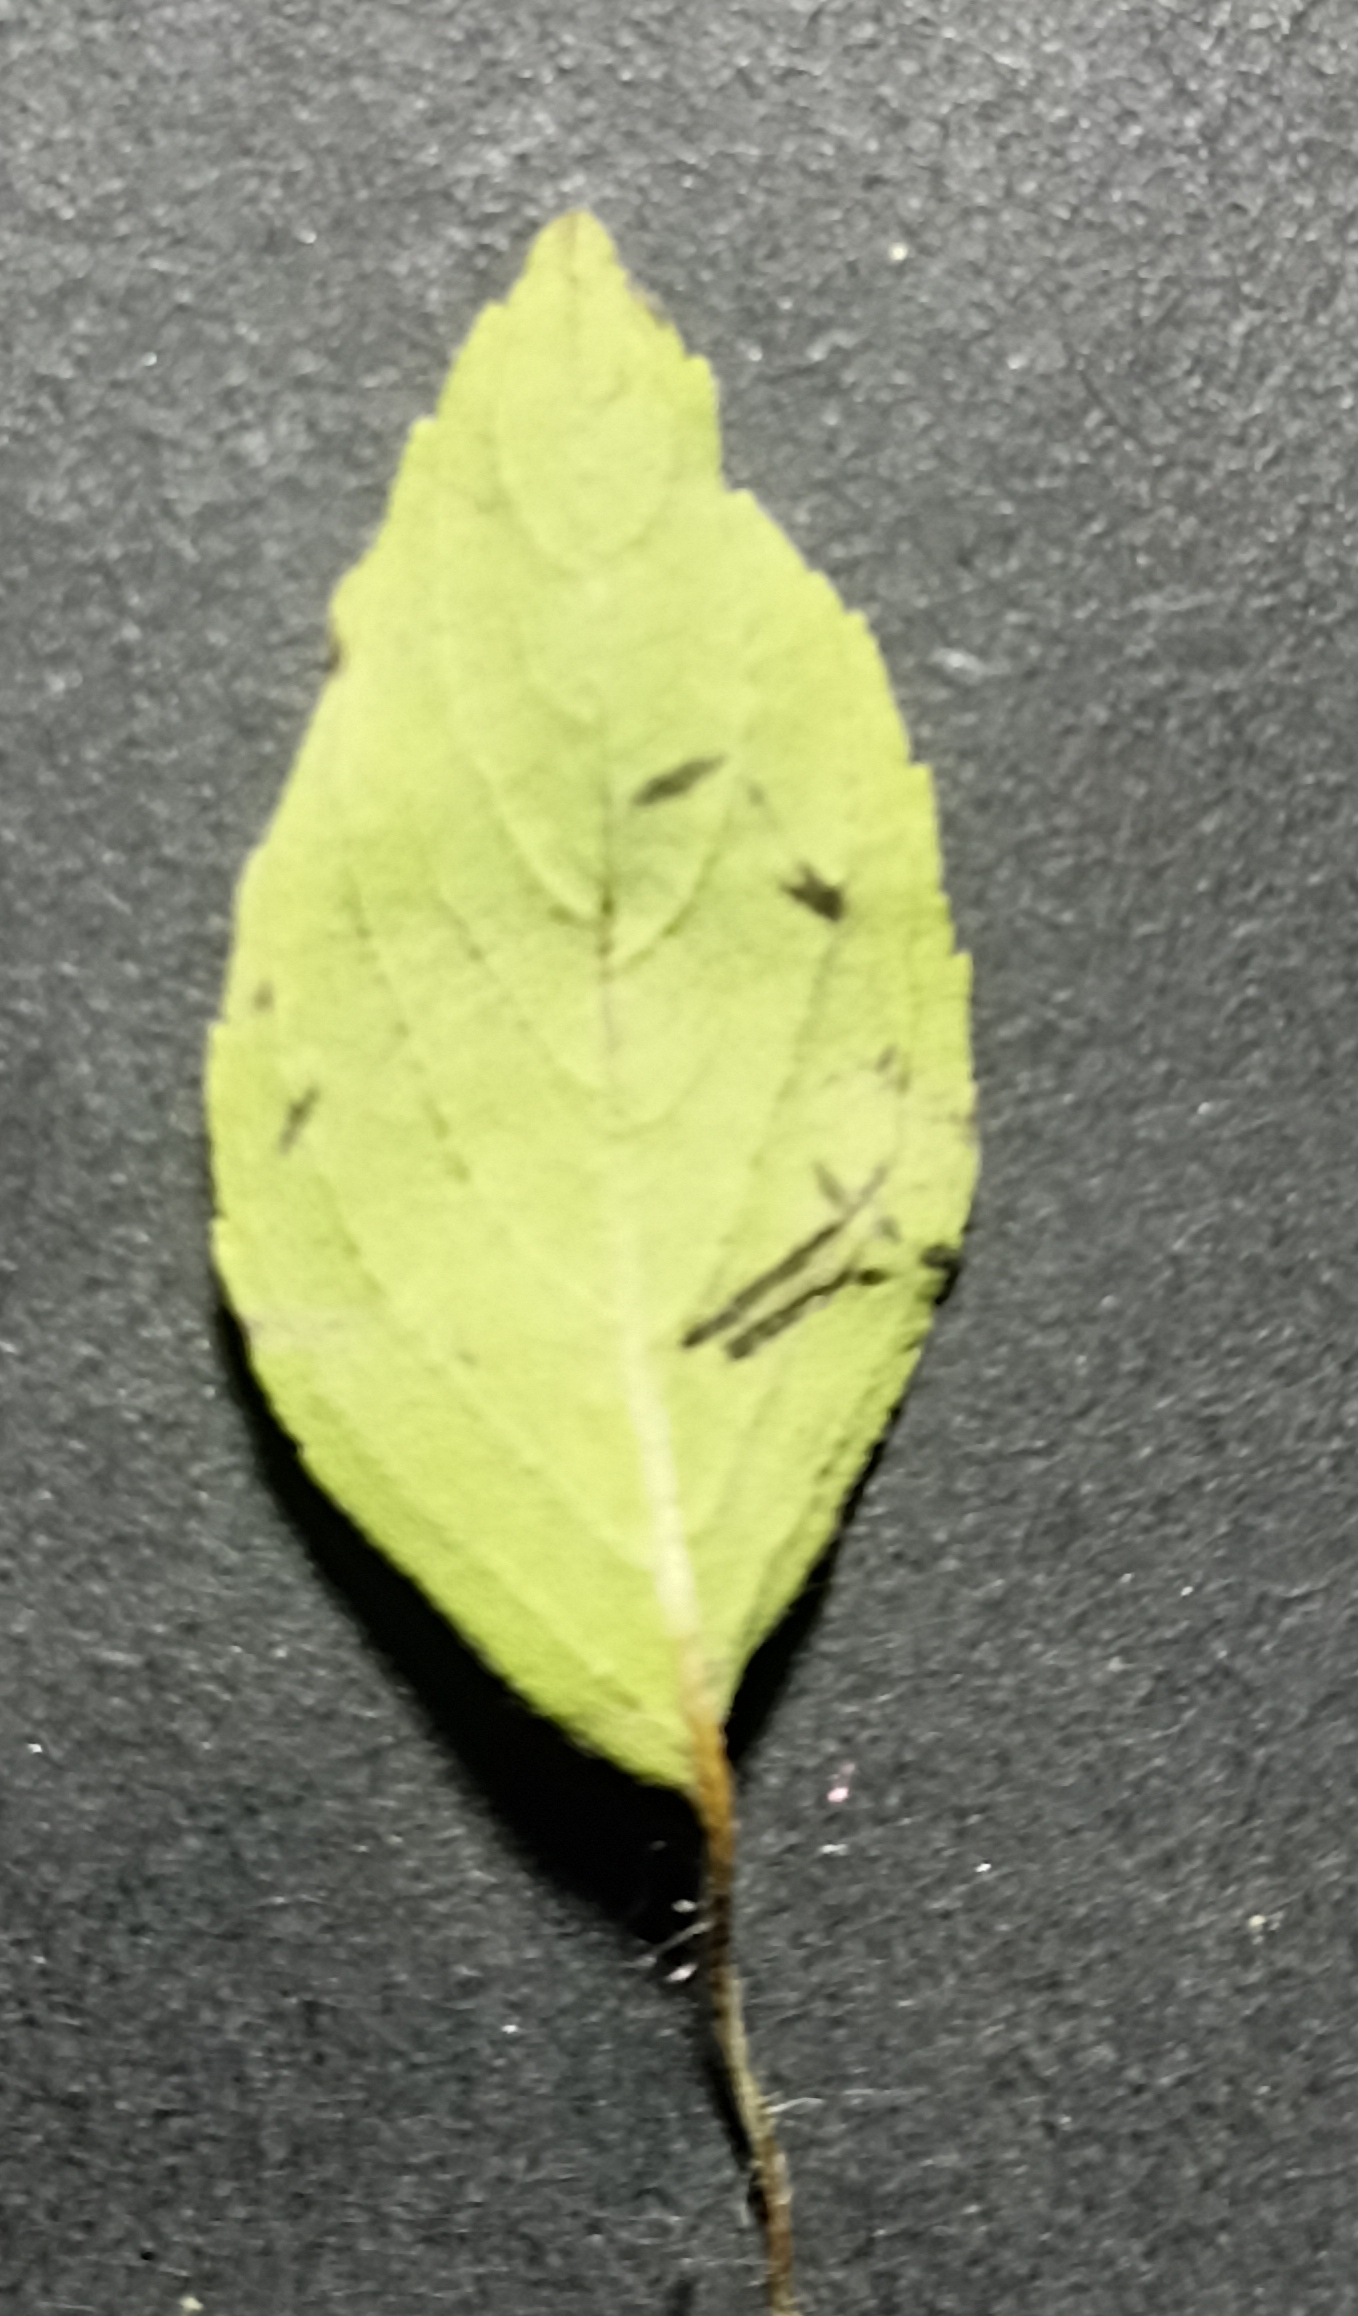Unhealthy: (189, 191, 1007, 1797)
